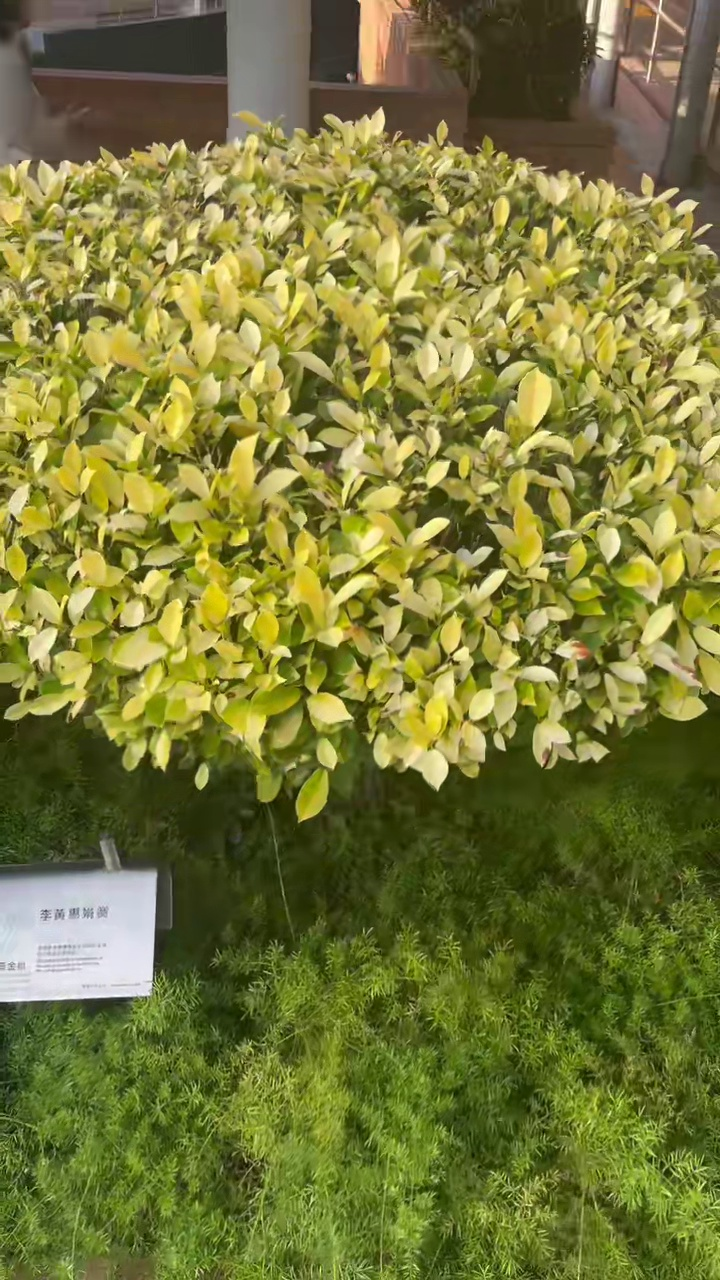Golden-leaves Fig: (0, 109, 719, 821)
